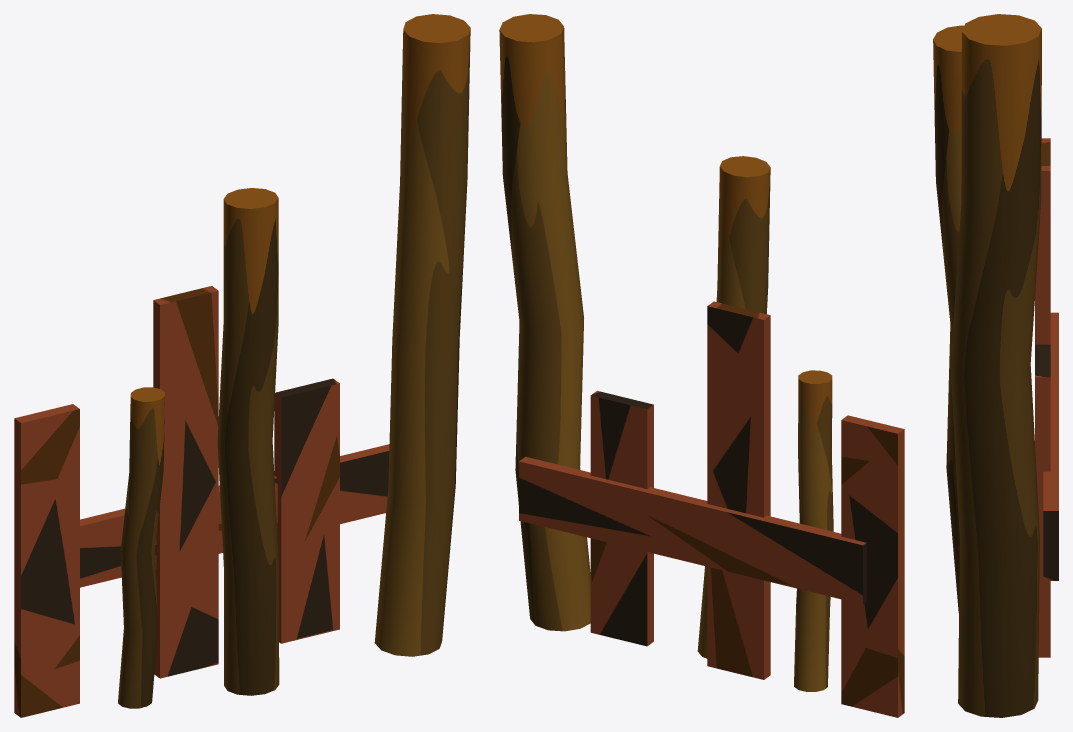
Rendered from GRP_PRMC_Puerta03.FBX.
3 views of the same model, side by side, from view 1: azimuth 30°, elevation 25°; view 2: azimuth 150°, elevation 25°; view 3: azimuth 270°, elevation 25° (orthographic). The views are drawn at different scales.
Parts seen in each view (by area): view 1: PRMC_Palo03, Tablon11, Tablon12, Tablon10, Tablon09; view 2: PRMC_Palo03, Tablon09, Tablon11, Tablon12, Tablon10; view 3: PRMC_Palo03, Tablon10, Tablon09, Tablon11.
Part boxes in pixels (x1,y1,x2,y2): PRMC_Palo03: (118, 14, 470, 708); Tablon11: (153, 286, 218, 678); Tablon12: (14, 404, 79, 717); Tablon10: (274, 378, 339, 643); Tablon09: (80, 444, 389, 587); PRMC_Palo03: (499, 14, 833, 691); Tablon09: (519, 456, 866, 604); Tablon11: (707, 301, 770, 679); Tablon12: (841, 415, 904, 717); Tablon10: (590, 390, 653, 646); PRMC_Palo03: (933, 14, 1041, 717); Tablon10: (1035, 344, 1050, 657); Tablon09: (1043, 312, 1058, 580); Tablon11: (1035, 138, 1050, 344).
Size of the model in its own units: 3.66 by 4.92 by 0.8143.
